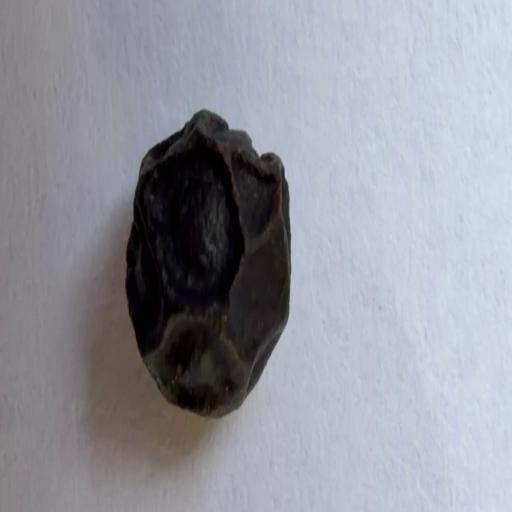Black_pepper: (100, 79, 298, 439)
